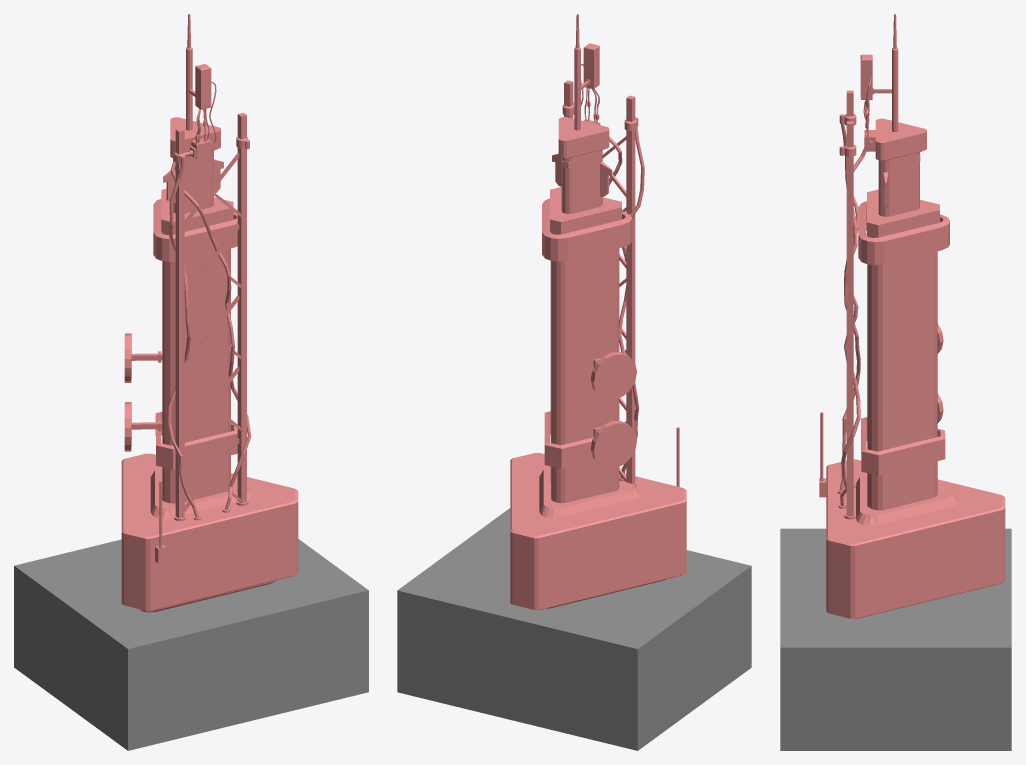
File: S_Envi_QYDX_LightSimulator_06.gltf
3 views of the same model, side by side, from view 1: azimuth 30°, elevation 25°; view 2: azimuth 150°, elevation 25°; view 3: azimuth 270°, elevation 25° (orthographic).
Visible parts, largest first — view 1: S_Envi_QYDX_LightSimulator_06; view 2: S_Envi_QYDX_LightSimulator_06; view 3: S_Envi_QYDX_LightSimulator_06.
Part boxes in pixels (box(x1,y1,x2,y2)): S_Envi_QYDX_LightSimulator_06: box(14, 14, 368, 750); S_Envi_QYDX_LightSimulator_06: box(397, 14, 751, 750); S_Envi_QYDX_LightSimulator_06: box(780, 14, 1011, 750).
Bounding box in the file's own units: 2.76 × 7.3 × 2.26.
